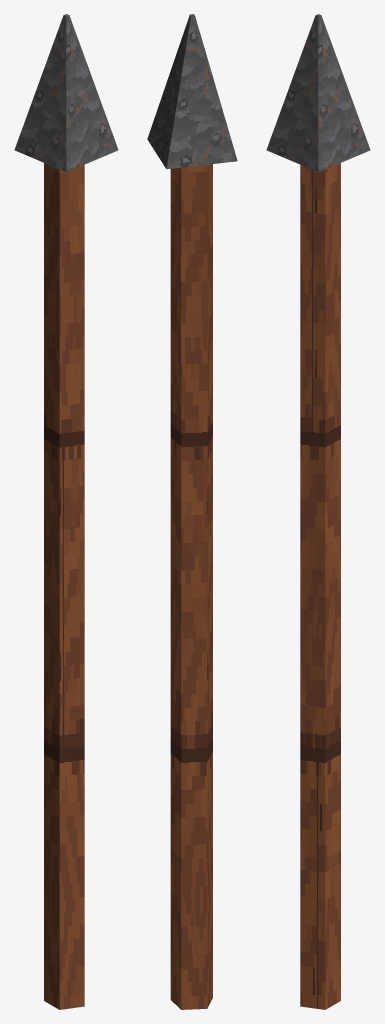
File: wooden_arrow.glb
3 views of the same model, side by side, from view 1: azimuth 90°, elevation 25°; view 2: azimuth 150°, elevation 25°; view 3: azimuth 270°, elevation 25° (orthographic).
Parts seen in each view (by area): view 1: Shaft; view 2: Shaft; view 3: Shaft.
Part boxes in pixels (<box>): Shaft: <box>14,14,118,1009</box>; Shaft: <box>147,14,237,1009</box>; Shaft: <box>266,14,370,1009</box>.
Bounding box in the file's own units: 0.07 × 0.73 × 0.07.
2 materials, 2 textured.
